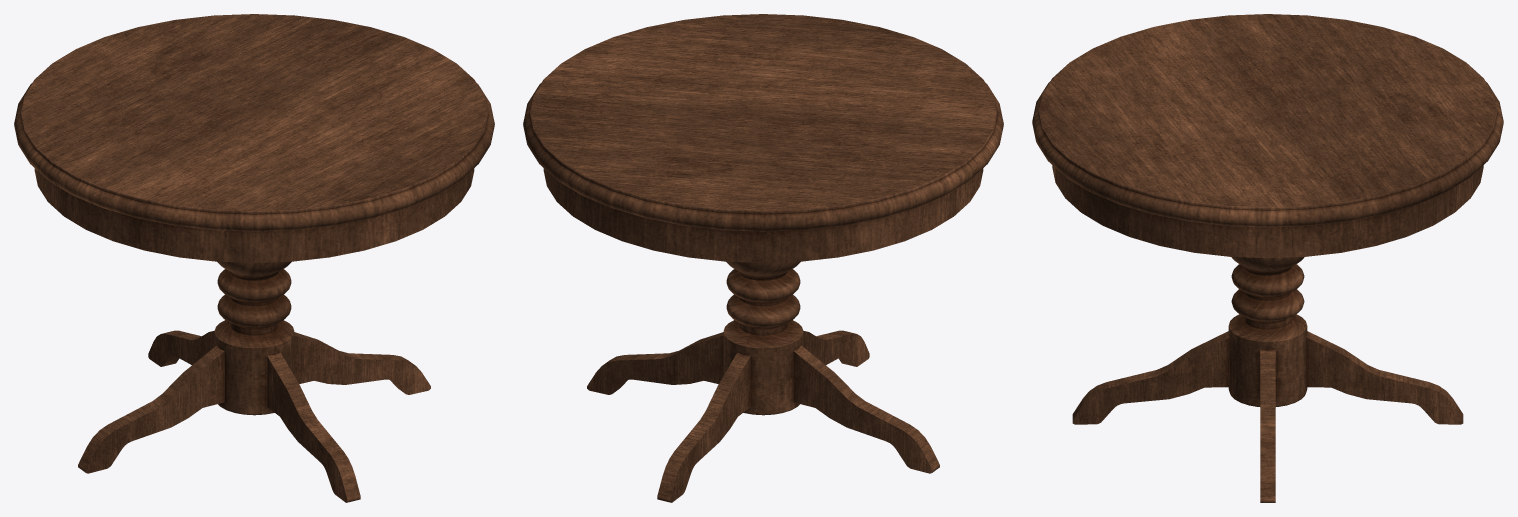
Rendered from mesa_redonda.obj.
The picture shows the model from 3 angles, left to right: view 1: azimuth 30°, elevation 25°; view 2: azimuth 150°, elevation 25°; view 3: azimuth 270°, elevation 25°; orthographic projection.
Parts seen in each view (by area): view 1: pCylinder6_blinn1_0; view 2: pCylinder6_blinn1_0; view 3: pCylinder6_blinn1_0.
Boxes of the visible parts, box(x1,y1,x2,y2) form: pCylinder6_blinn1_0: box(14, 14, 494, 502); pCylinder6_blinn1_0: box(523, 14, 1003, 502); pCylinder6_blinn1_0: box(1032, 14, 1503, 502).
Size of the model in its own units: 4.53 by 3.3 by 4.53.
Materials: 1 (1 with a texture image).
